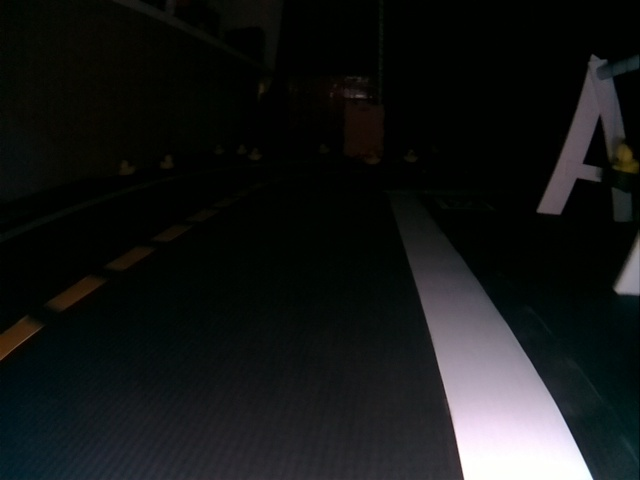Duckie: (612, 142, 639, 173), (118, 160, 135, 175), (366, 151, 380, 164), (160, 155, 172, 168), (405, 150, 417, 162), (213, 144, 224, 154), (236, 144, 246, 154), (319, 144, 329, 154), (249, 151, 258, 160)
QR code: (434, 197, 496, 210)
